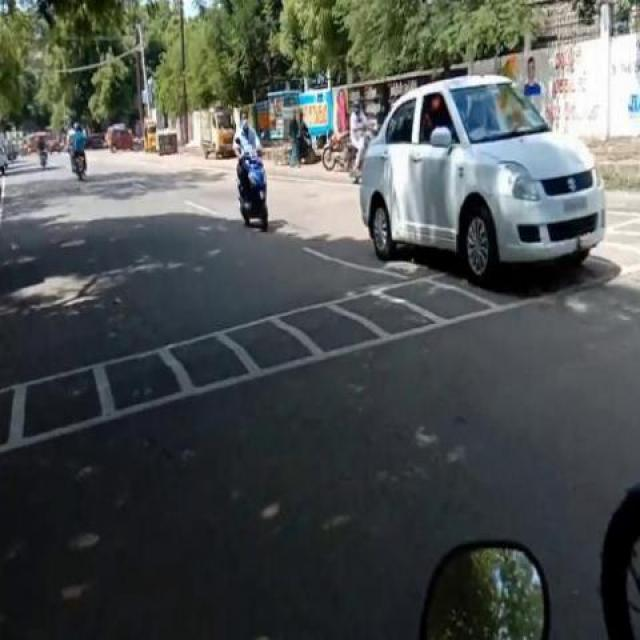Speed Bump: (0, 276, 467, 466), (605, 224, 639, 274)
